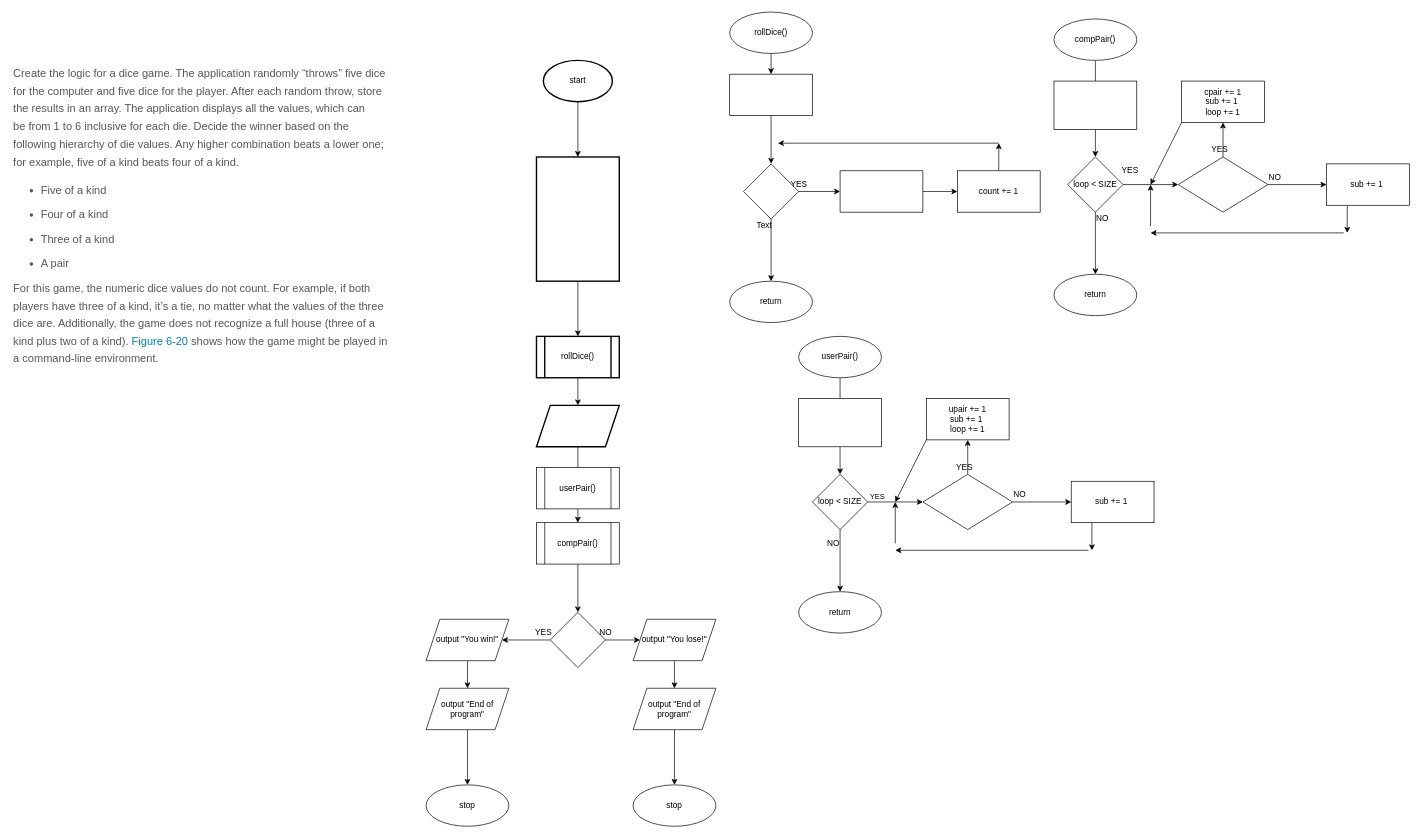
This 1421x838 diagram has some shape labels left out. Each missing label, with the box of its shape:
count < SIZE: (743, 163, 799, 219)
Declarations num user[SIZE] num comp[SIZE] num SIZE = 5: (535, 156, 620, 282)
num count = 0: (729, 73, 812, 116)
num cpair = 0 num sub = 1 num loop = 0: (1053, 80, 1137, 129)
num upair = 0 num sub = 1 num loop = 0: (798, 398, 881, 447)
ouptut user, comp: (535, 404, 620, 447)
sub == comp[loop]: (1177, 156, 1268, 212)
sub == user[loop]: (922, 474, 1013, 530)
upair > cpair: (550, 612, 605, 668)
user[count] = random(6) + 1 comp[count] = random(6) + 1: (839, 170, 923, 212)
